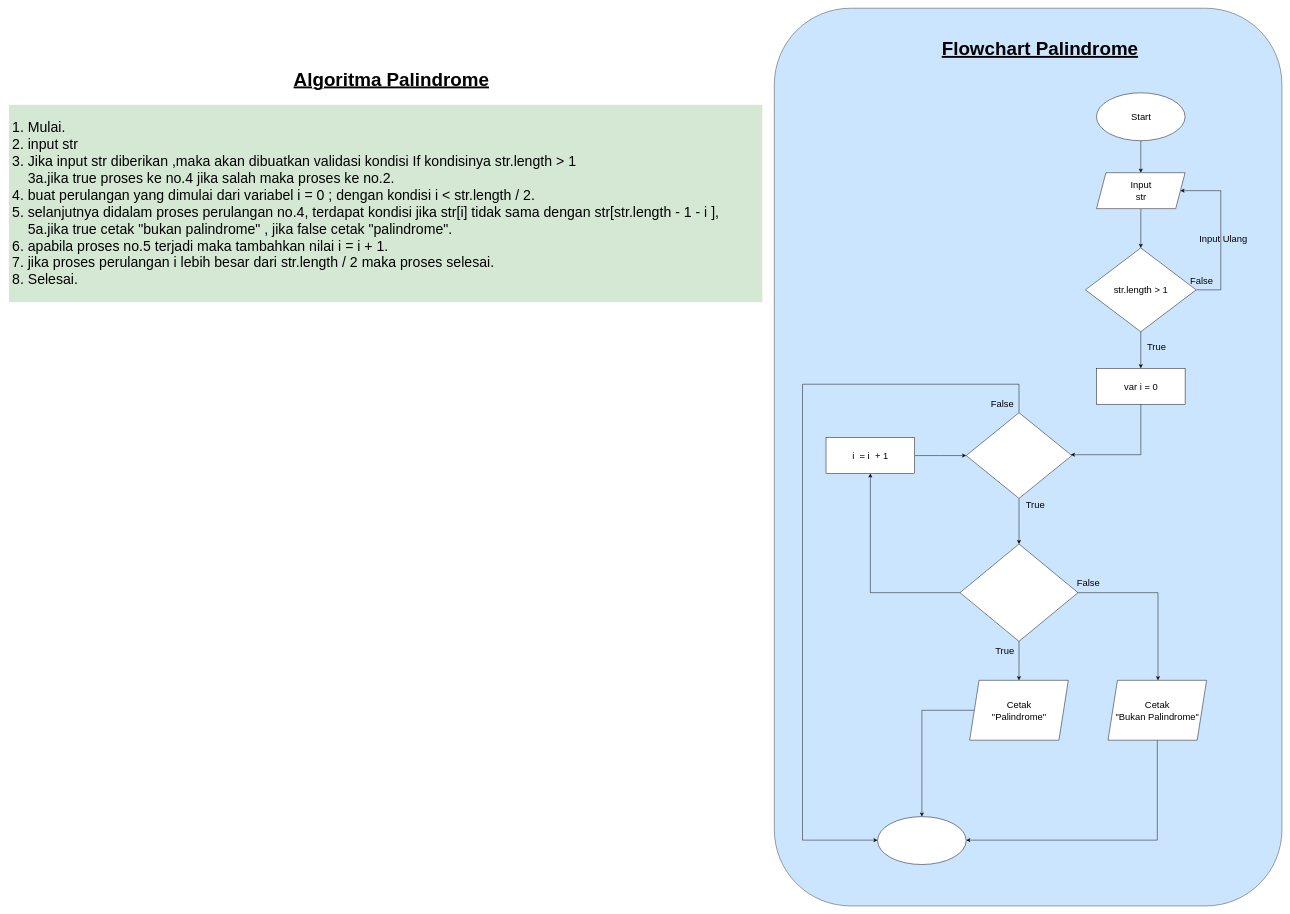
This 1290x914 diagram has some shape labels left out. Each missing label, with the box of its shape:
End: (877, 816, 966, 865)
i < str.length / 2: (966, 412, 1072, 498)
str[i] != str[str.length -1 - i ]: (960, 544, 1078, 641)
